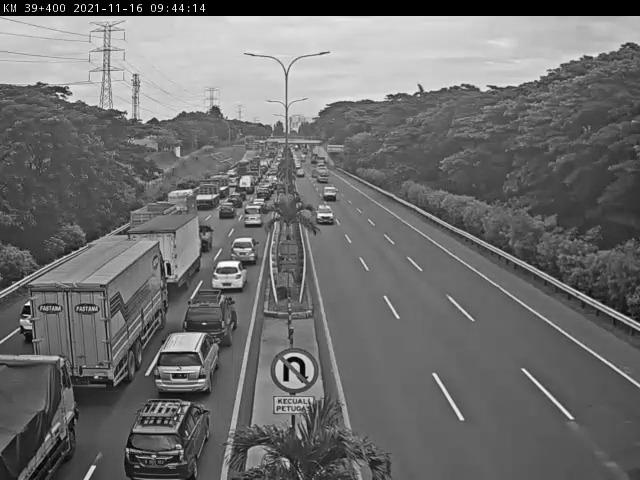car: (117, 396, 221, 480), (148, 335, 223, 394), (182, 288, 251, 340), (207, 260, 250, 288), (228, 234, 265, 263), (217, 200, 242, 224), (246, 203, 269, 228), (314, 201, 333, 230), (320, 185, 342, 200)
truck-l-: (26, 241, 168, 382), (194, 183, 220, 208), (209, 176, 231, 196)
truck-m-: (0, 352, 73, 480), (128, 214, 203, 292), (130, 204, 182, 251), (167, 188, 196, 218)
